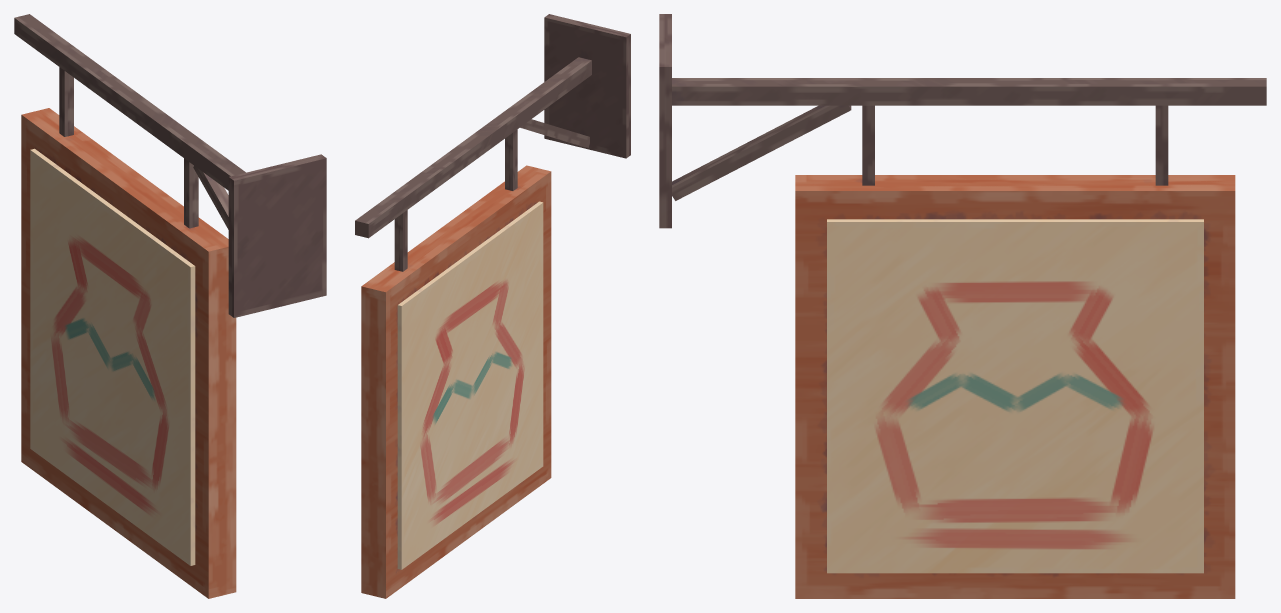
The model's file is sign_pot.bundle.fbx.
3 renders of one model, left to right at view 1: azimuth 30°, elevation 25°; view 2: azimuth 150°, elevation 25°; view 3: azimuth 270°, elevation 25°, orthographic. The views are drawn at different scales.
Parts seen in each view (by area): view 1: sign_pot, sign_pot_low; view 2: sign_pot, sign_pot_low; view 3: sign_pot, sign_pot_low.
Boxes of the visible parts, box(x1,y1,x2,y2) form: sign_pot: box(14, 14, 326, 592); sign_pot_low: box(21, 108, 236, 598); sign_pot: box(355, 14, 630, 593); sign_pot_low: box(361, 165, 551, 598); sign_pot: box(659, 14, 1266, 593); sign_pot_low: box(795, 175, 1235, 598).
Size of the model in its own units: 0.6 by 2.9 by 2.9.
Materials: 1 (1 with a texture image).
